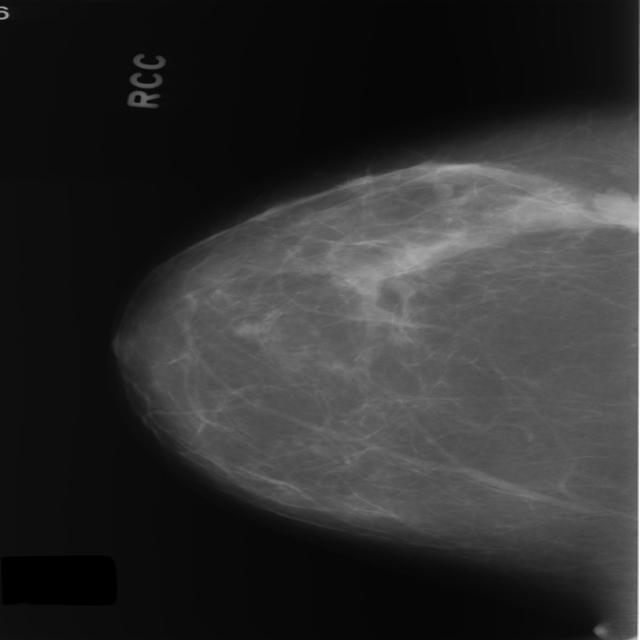tumour: (590, 187, 638, 231)
